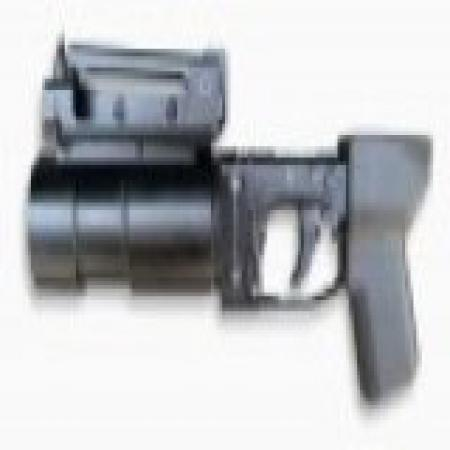Pistol: (36, 41, 428, 405)
